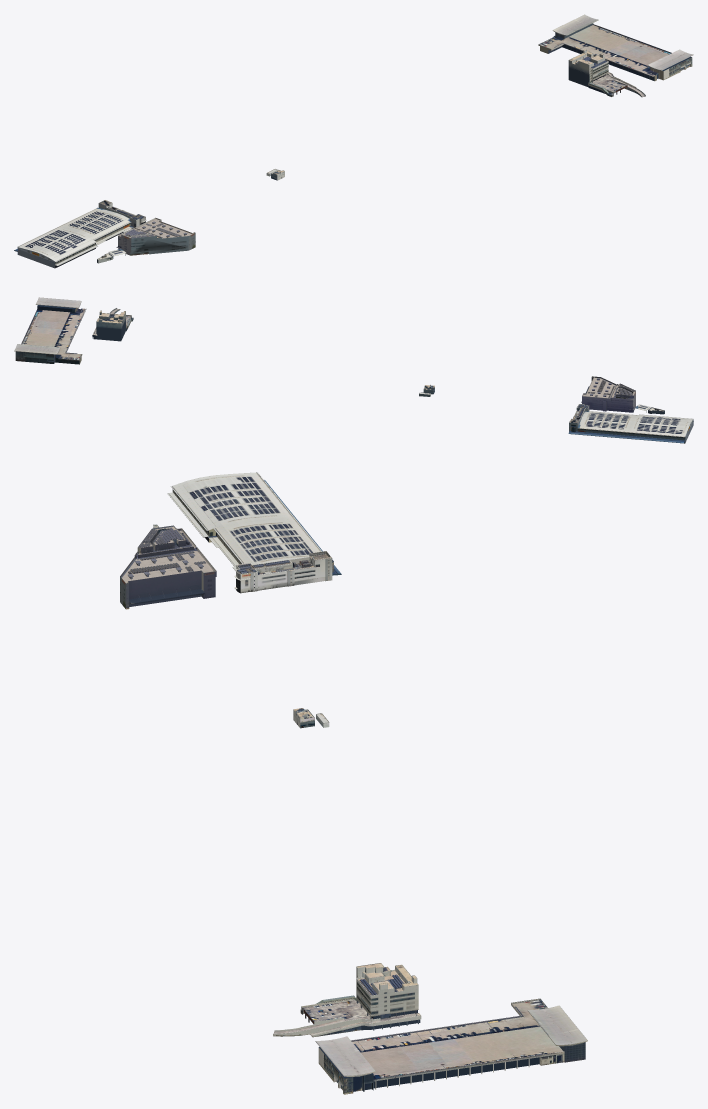
The model's file is surrounding_buildings_03.glb.
3 views of the same model, one above another, from view 1: azimuth 30°, elevation 25°; view 2: azimuth 150°, elevation 25°; view 3: azimuth 270°, elevation 25° (orthographic). The views are drawn at different scales.
Visible parts, largest first — view 1: B105311775802062A0.001, B094051758501063A0.001, B094571748301063A0.001, B104491764402062A0.001; view 2: B105311775802062A0.001, B094051758501063A0.001, B094571748301063A0.001, B104491764402062A0.001; view 3: B105311775802062A0.001, B094051758501063A0.001, B104491764402062A0.001, B094571748301063A0.001.
Boxes of the visible parts, x1=… form: B105311775802062A0.001: x1=538, y1=14, x2=693, y2=81; B094051758501063A0.001: x1=14, y1=200, x2=146, y2=268; B094571748301063A0.001: x1=116, y1=217, x2=195, y2=255; B104491764402062A0.001: x1=568, y1=49, x2=645, y2=97; B105311775802062A0.001: x1=14, y1=297, x2=86, y2=364; B094051758501063A0.001: x1=568, y1=404, x2=693, y2=443; B094571748301063A0.001: x1=581, y1=376, x2=635, y2=412; B104491764402062A0.001: x1=92, y1=308, x2=133, y2=341; B105311775802062A0.001: x1=315, y1=998, x2=587, y2=1094; B094051758501063A0.001: x1=167, y1=472, x2=341, y2=593; B104491764402062A0.001: x1=273, y1=963, x2=421, y2=1037; B094571748301063A0.001: x1=120, y1=525, x2=216, y2=609.
Size of the model in its own units: 1391 by 44.4 by 450.
Materials: 25 (25 with a texture image).
